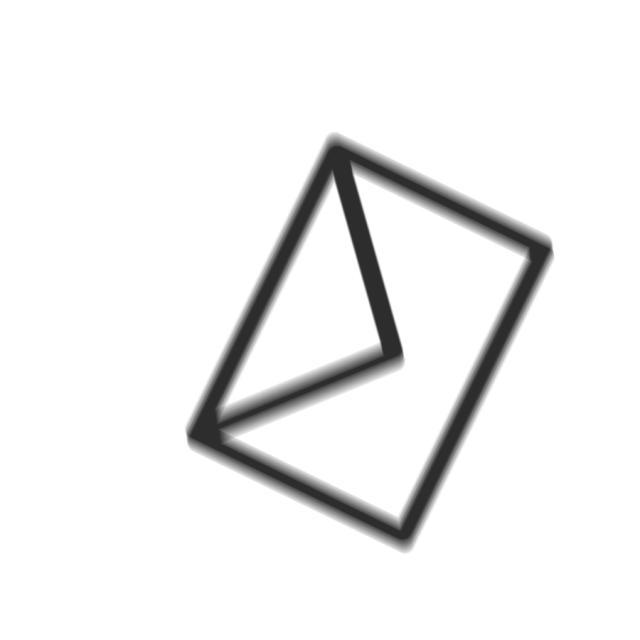letter: (177, 134, 561, 560)
